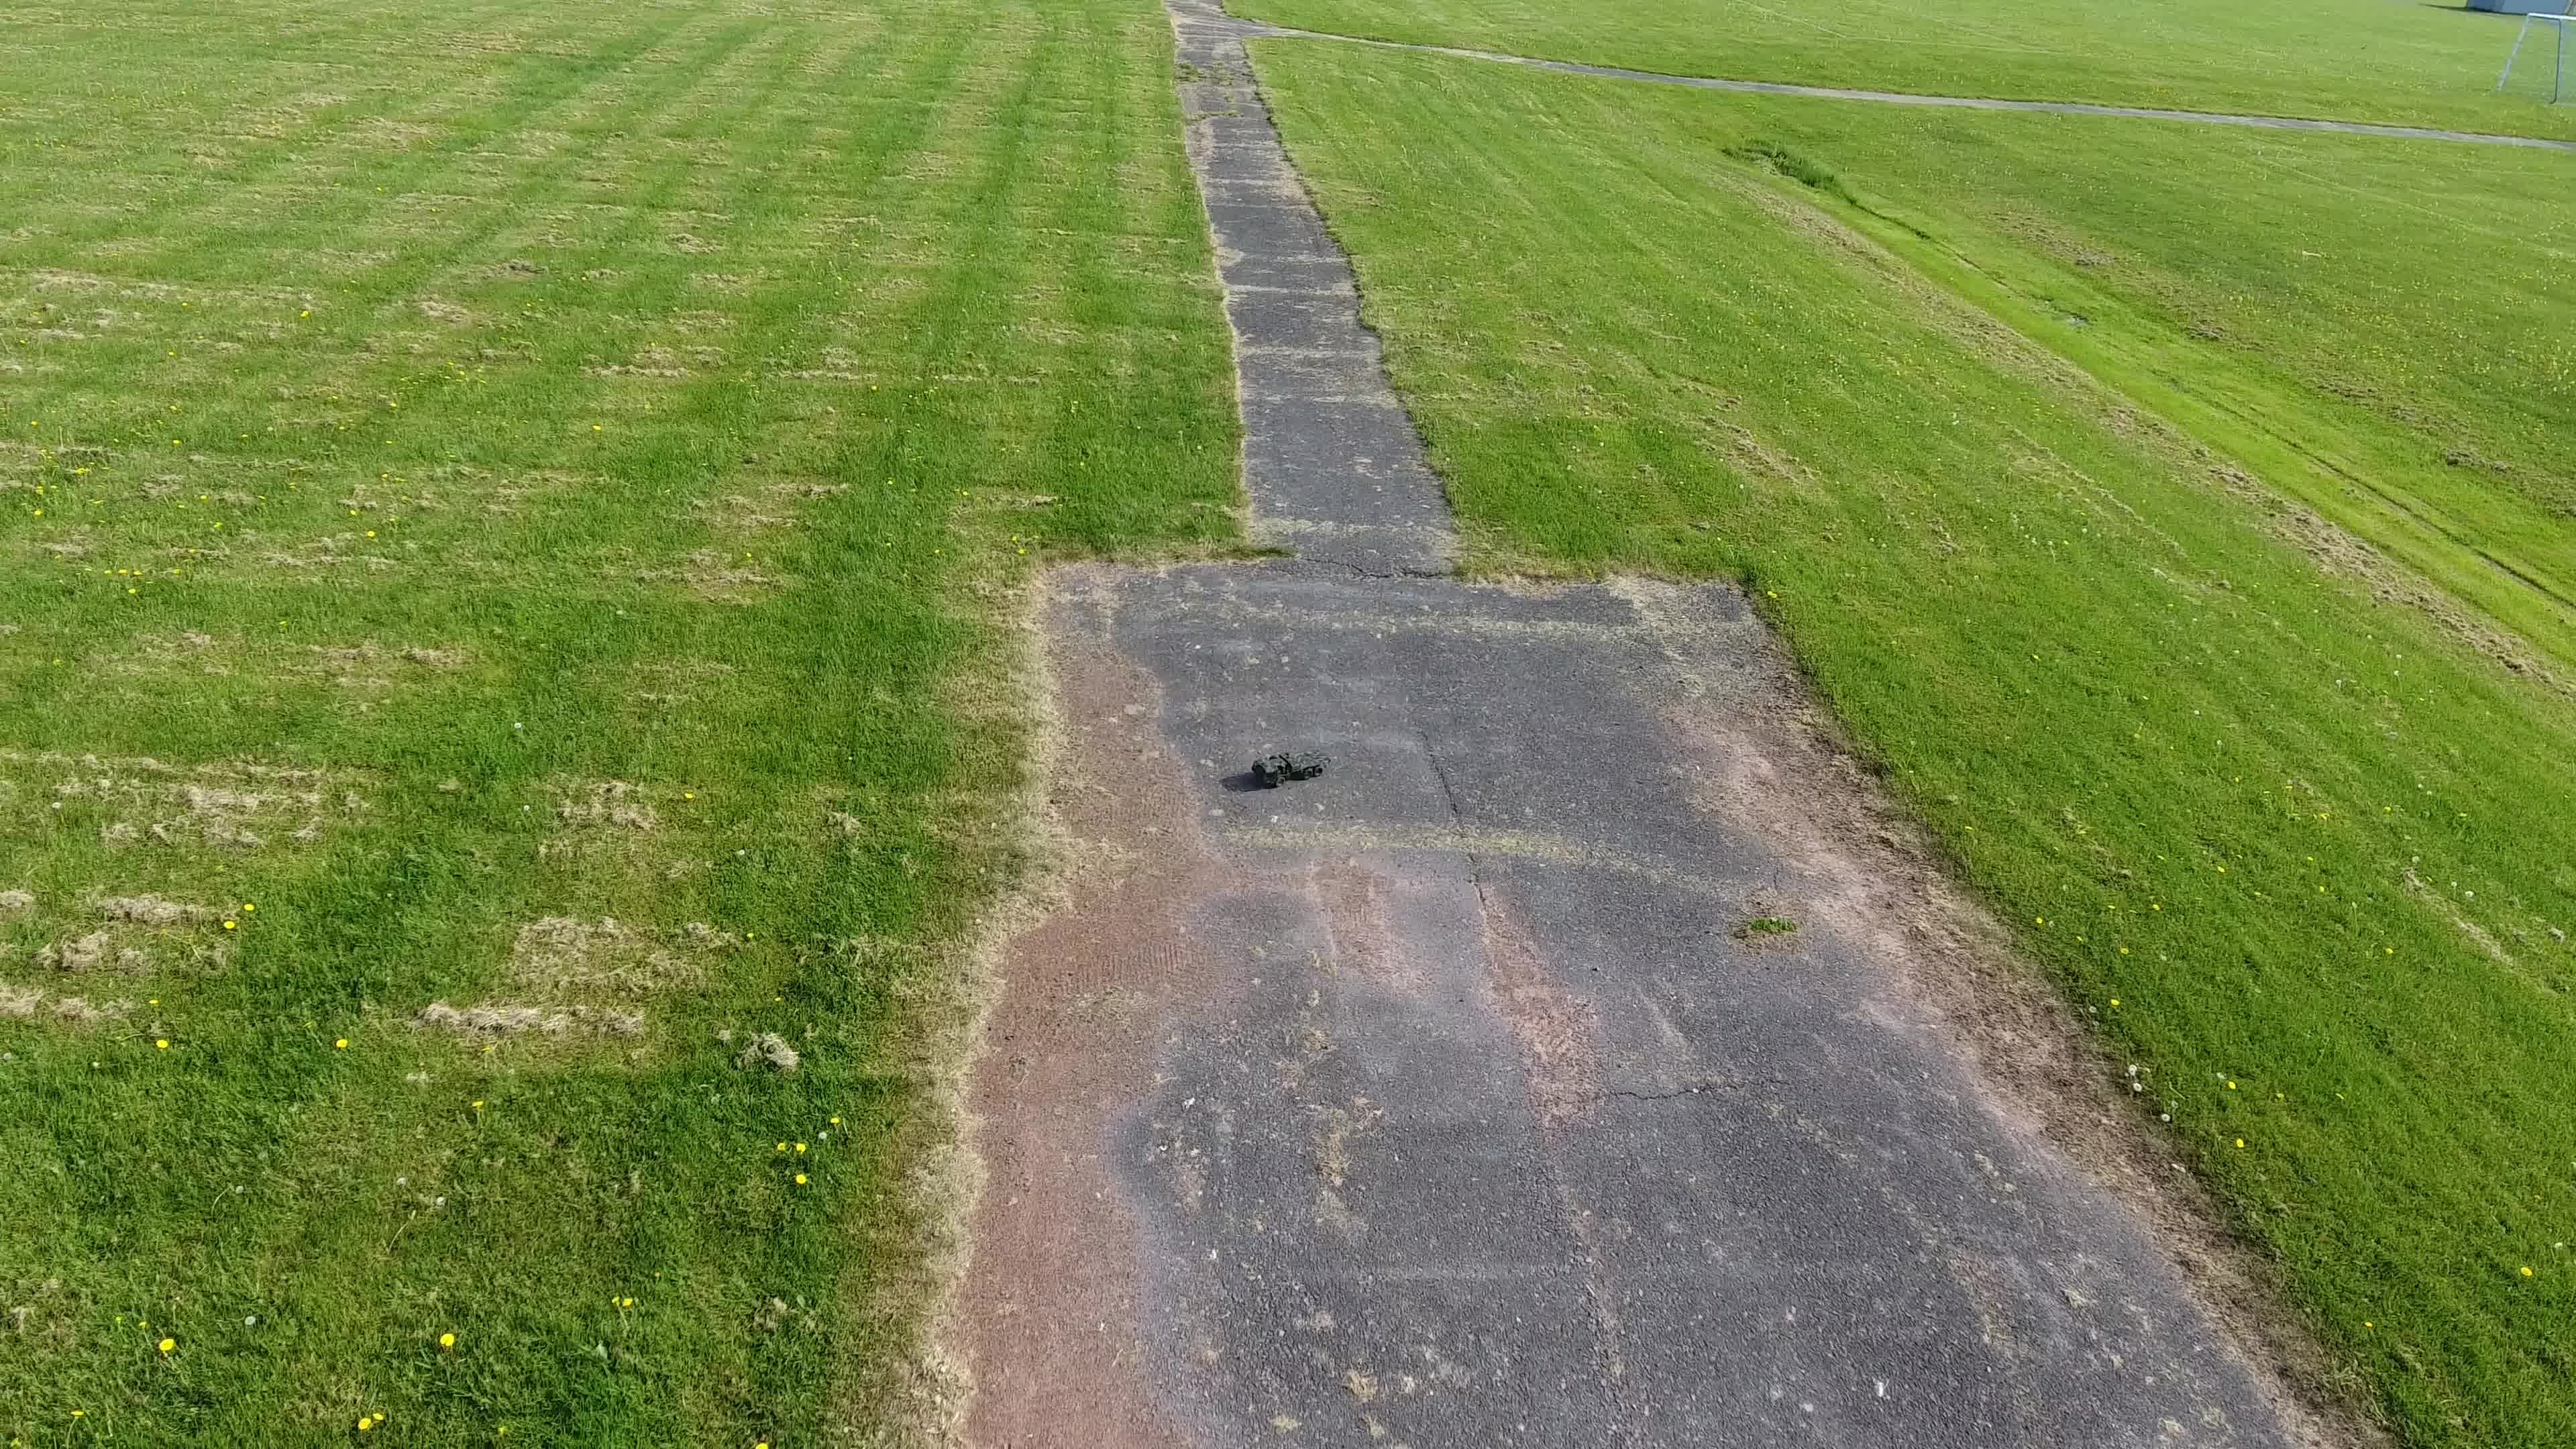transporter9_camo: (1249, 743, 1332, 789)
